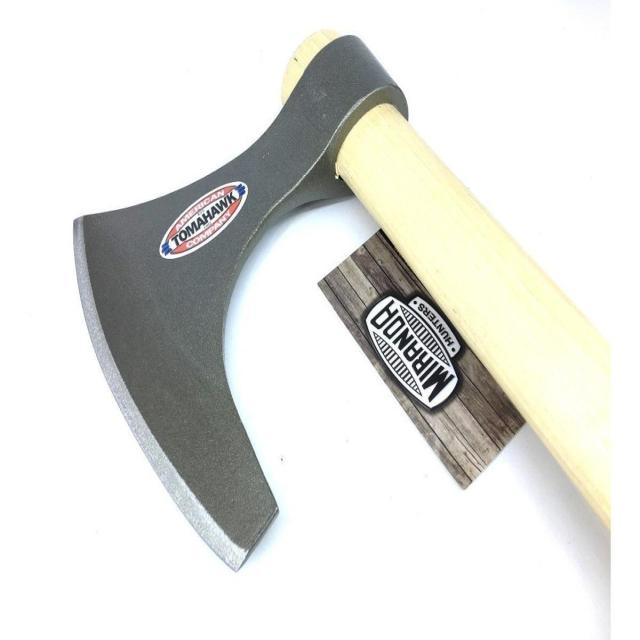Kapak: (63, 23, 603, 550)
